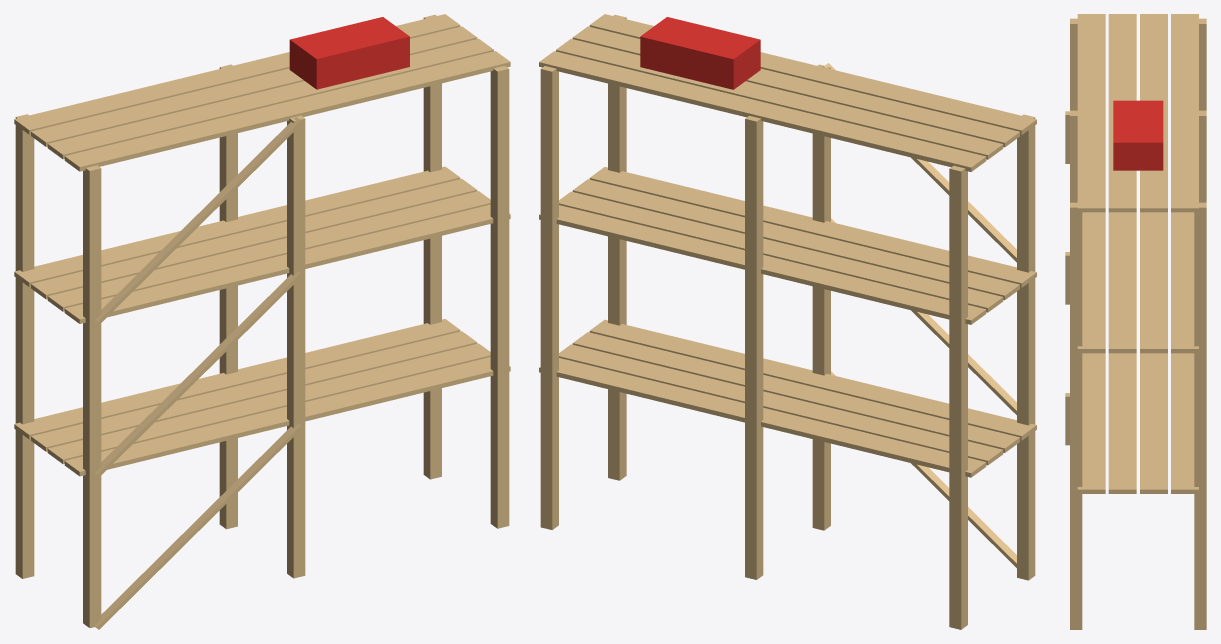
File: scaffolding.glb
The picture shows the model from 3 angles, left to right: view 1: azimuth 30°, elevation 25°; view 2: azimuth 150°, elevation 25°; view 3: azimuth 270°, elevation 25°; orthographic projection. The views are drawn at different scales.
Parts seen in each view (by area): view 1: scaffolding; view 2: scaffolding; view 3: scaffolding.
Boxes of the visible parts, bbox=[...] form: scaffolding: bbox=[14, 14, 510, 629]; scaffolding: bbox=[539, 14, 1036, 629]; scaffolding: bbox=[1065, 14, 1206, 629].
Bounding box in the file's own units: 14.8 × 16.15 × 4.55.
